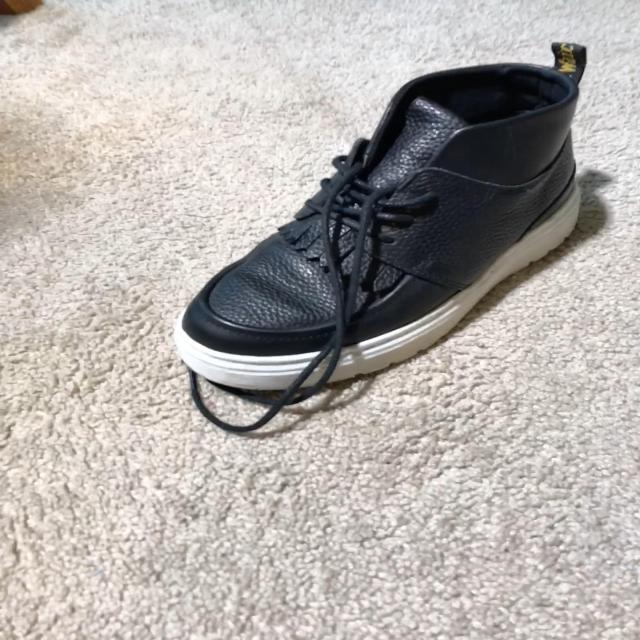shoe: (173, 43, 587, 441)
